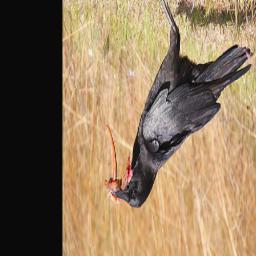Crow: (97, 0, 253, 215)
